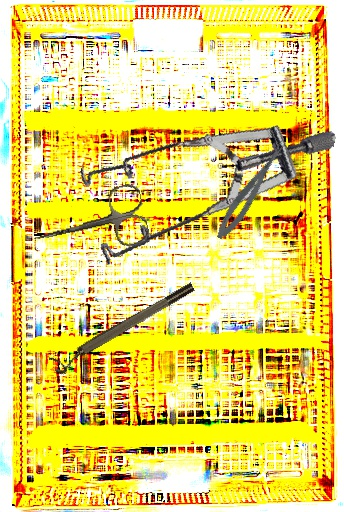Fixation Ring: (48, 279, 200, 378)
Iris Scissors: (27, 182, 152, 267)
Micro Scissor: (210, 137, 293, 244)
Speculum: (58, 69, 338, 316)
